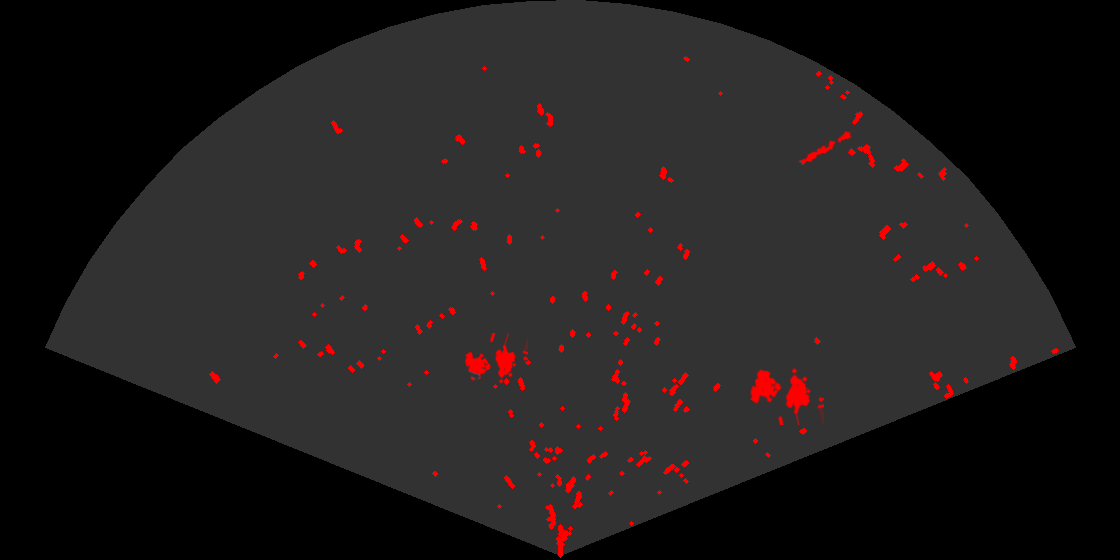cage: (748, 366, 824, 425), (463, 333, 528, 385)
chain: (797, 128, 855, 167)
